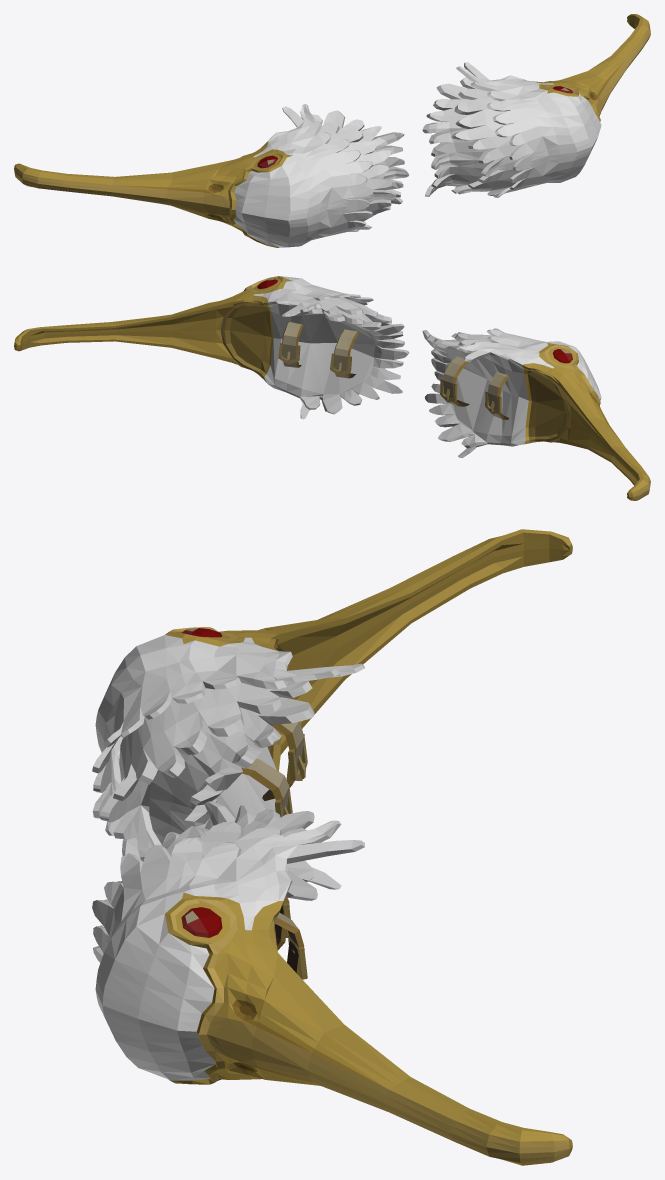
The model's file is largeCrossbowPelicanWarriorTip.glb.
3 renders of one model, top to bottom at view 1: azimuth 30°, elevation 25°; view 2: azimuth 150°, elevation 25°; view 3: azimuth 270°, elevation 25°, orthographic. The views are drawn at different scales.
Visible parts, largest first — view 1: largeCrossbowPelicanWarriorTip; view 2: largeCrossbowPelicanWarriorTip; view 3: largeCrossbowPelicanWarriorTip.
Boxes of the visible parts, box(x1,y1,x2,y2) form: largeCrossbowPelicanWarriorTip: box(14, 14, 650, 247); largeCrossbowPelicanWarriorTip: box(14, 276, 650, 500); largeCrossbowPelicanWarriorTip: box(92, 529, 572, 1165).
Bounding box in the file's own units: 1.01 × 0.1703 × 0.3343.
